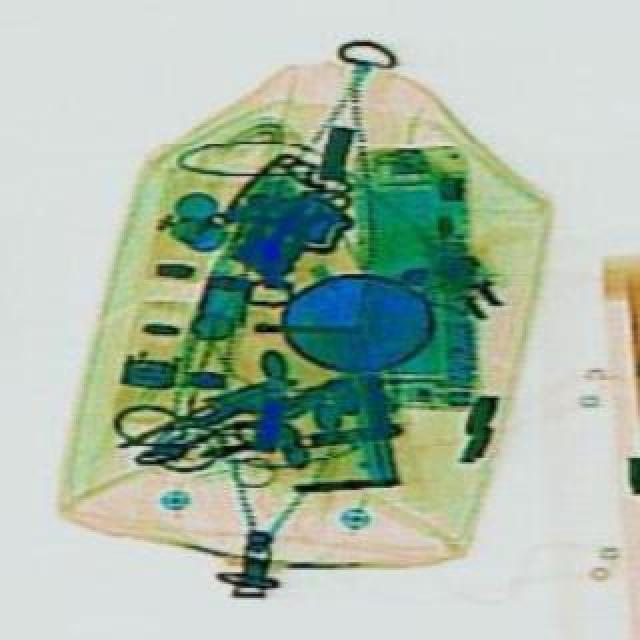pliers: (102, 338, 310, 490)
